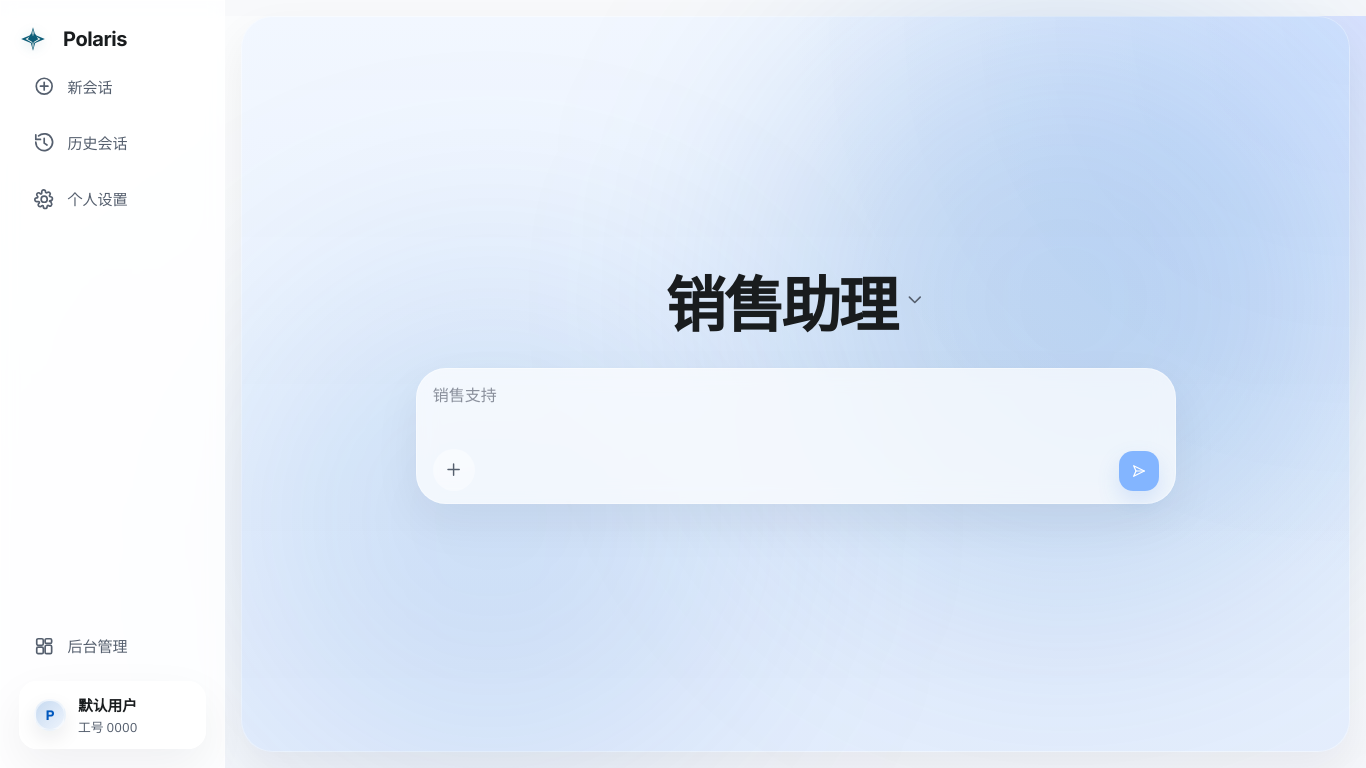
Test: shows backend configuration errors when sending a message fails
The image size is (1366, 768).
Expected: the text "销售助理" is shown, [666,256,896,344]
Type "帮我写一封跟进邮件" into the text box with placeholder "销售支持" at [796, 408], box [433,382,1159,432]
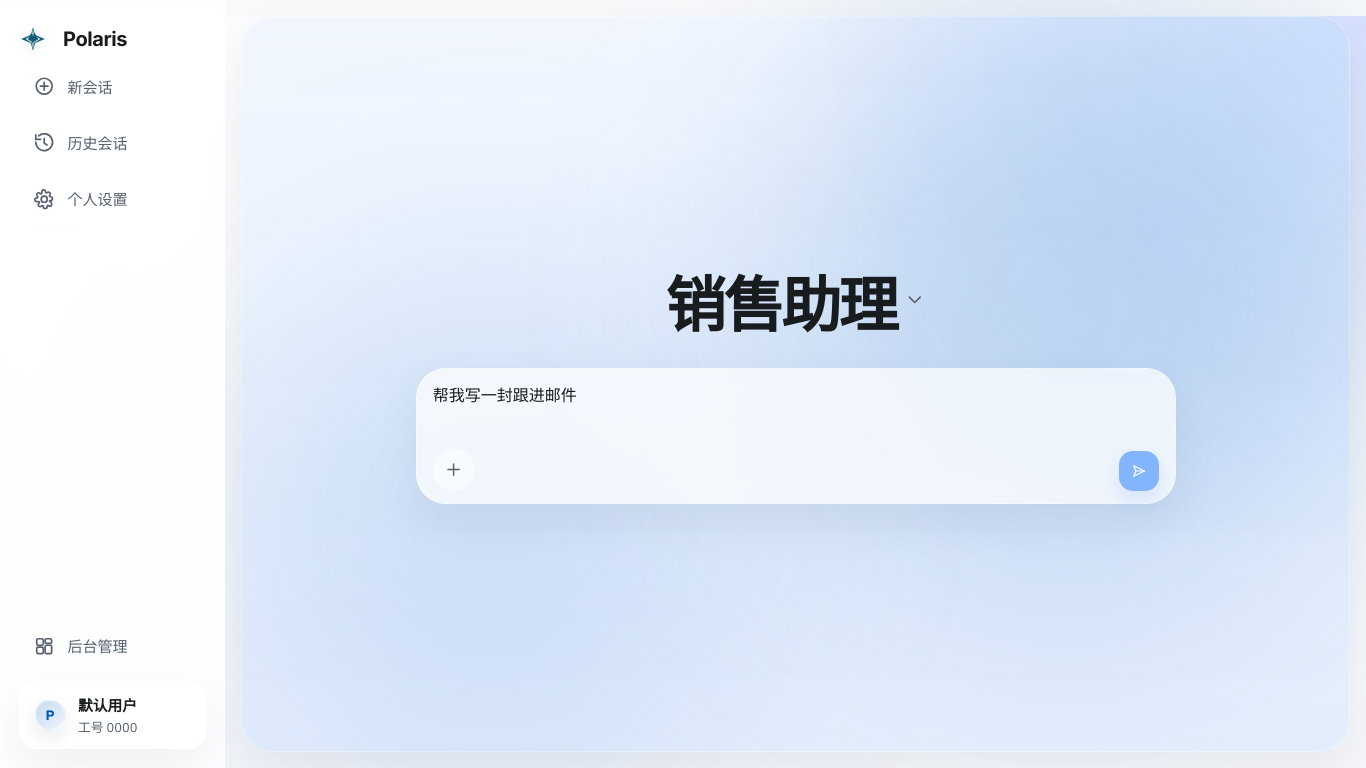
Click the button named "发送" at [1139, 470], box [1119,450,1159,490]
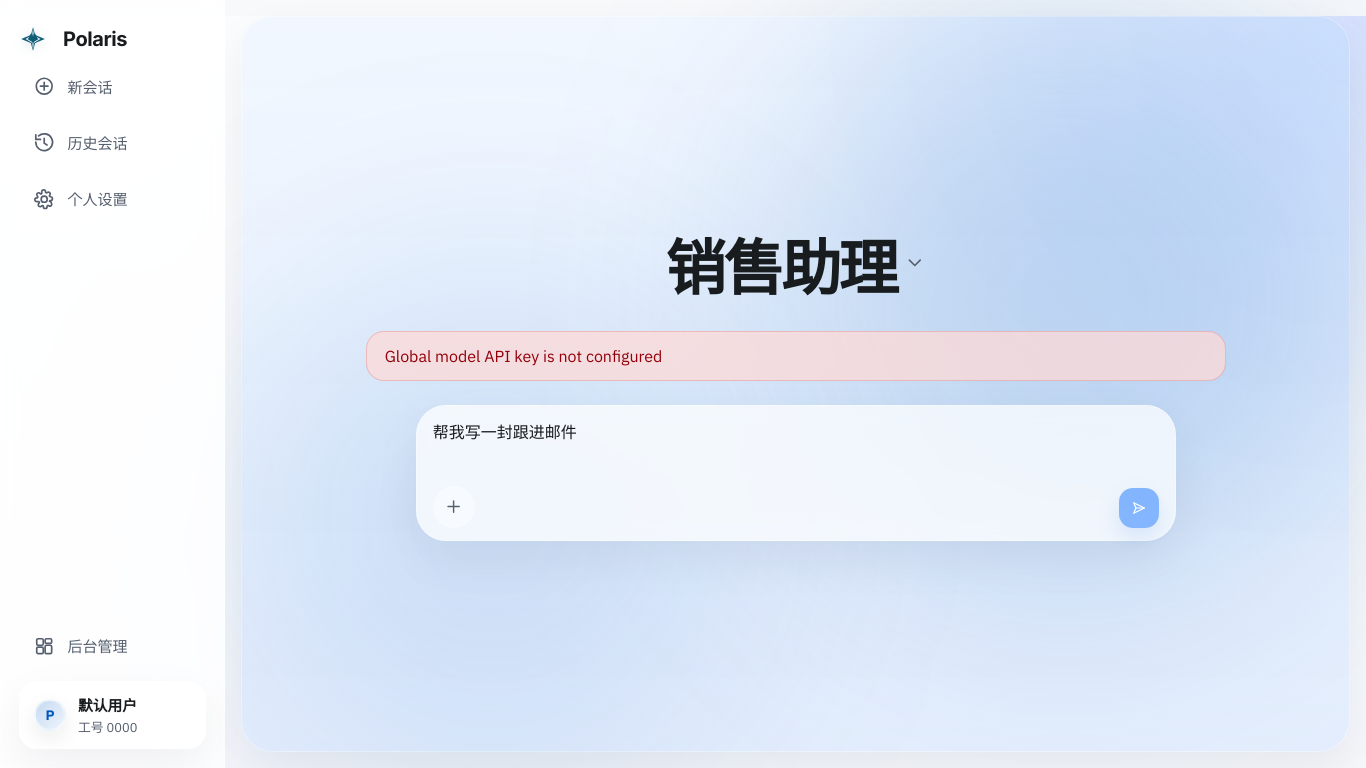
Expected: the text "Global model API key is not configured" is shown once, [366,330,1226,380]
